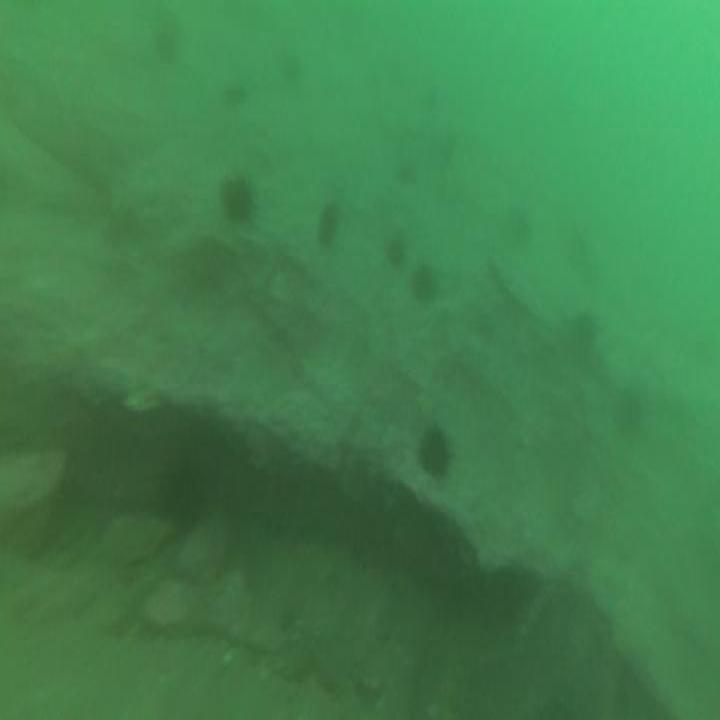echinus: (161, 459, 201, 521), (613, 388, 640, 439), (421, 428, 449, 476), (224, 178, 253, 222), (319, 204, 338, 252), (573, 310, 596, 348), (414, 263, 437, 301), (386, 228, 401, 263)
